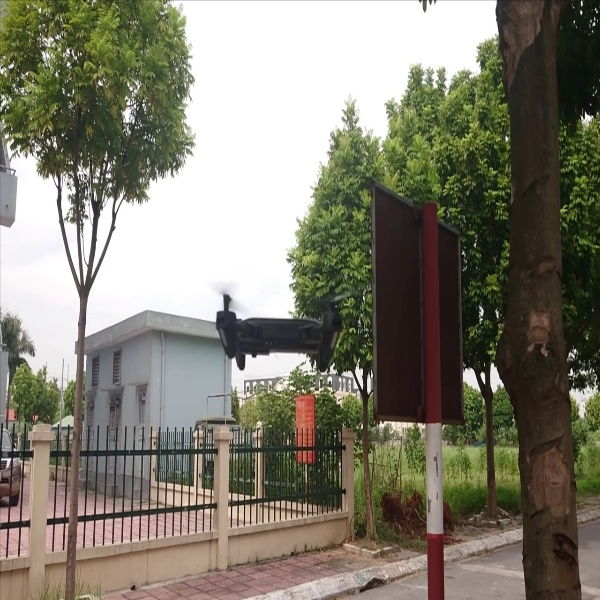drone: (194, 274, 361, 382)
